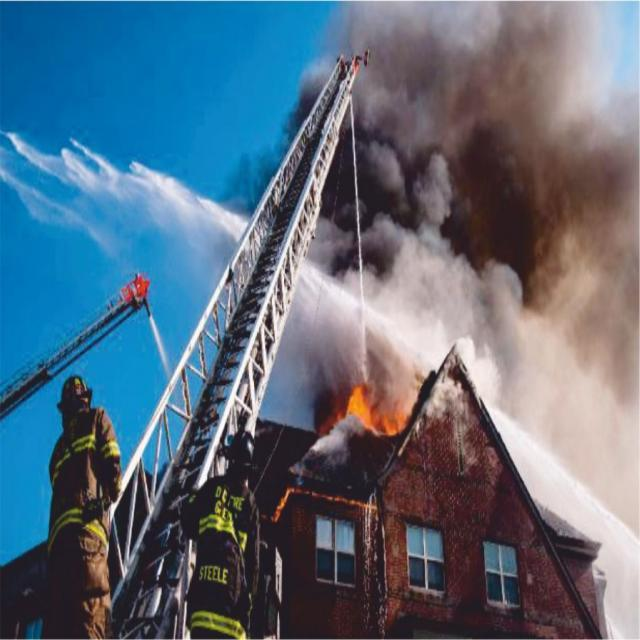Fire: (311, 386, 404, 436)
Smoke: (298, 0, 634, 255), (500, 328, 640, 470), (382, 261, 638, 325)
